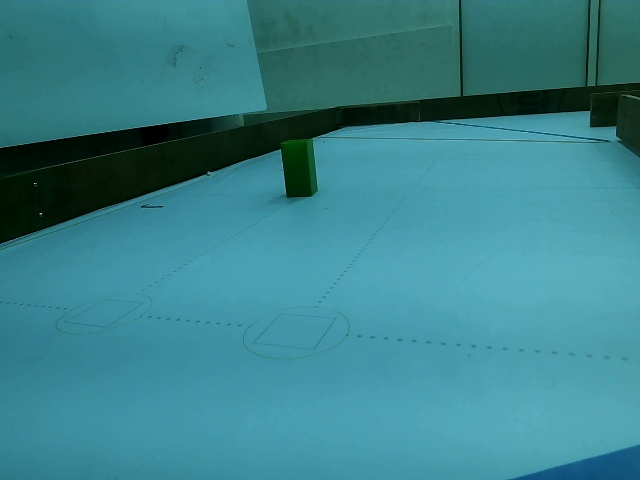green: (280, 138, 318, 197)
